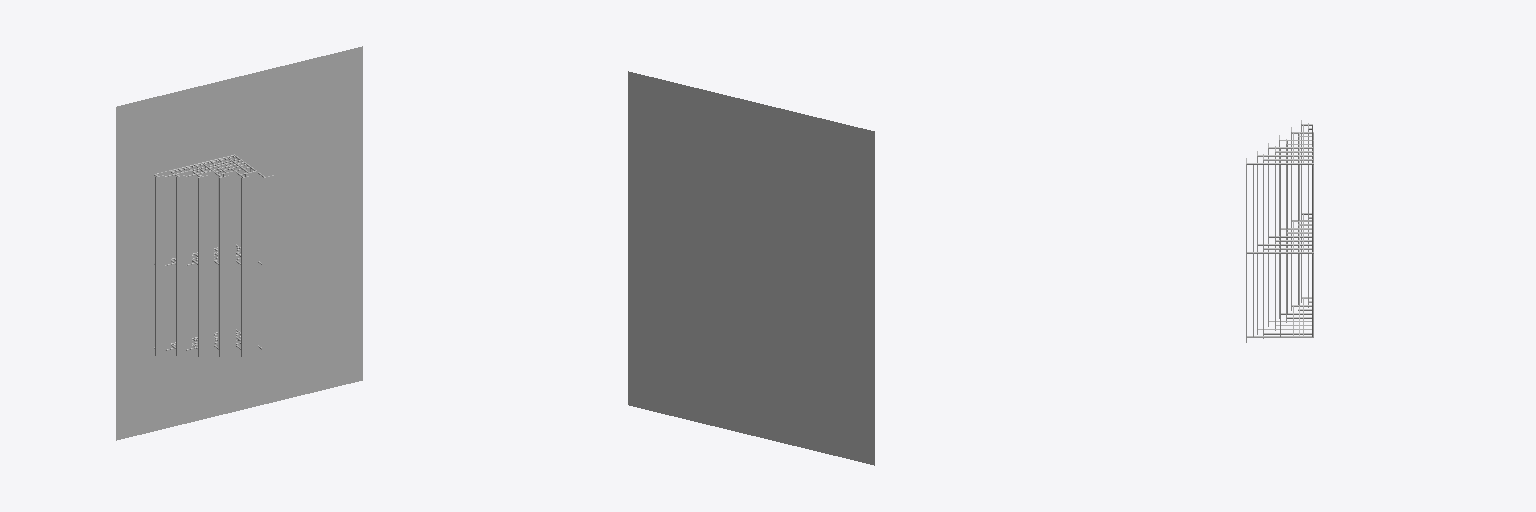
The model's file is GrandStands.obj.
3 views of the same model, side by side, from view 1: azimuth 30°, elevation 25°; view 2: azimuth 150°, elevation 25°; view 3: azimuth 270°, elevation 25° (orthographic).
Parts seen in each view (by area): view 1: bleachers; view 2: bleachers; view 3: bleachers.
Boxes of the visible parts, box(x1,y1,x2,y2) form: bleachers: box(116, 46, 362, 440); bleachers: box(628, 71, 874, 465); bleachers: box(1246, 120, 1313, 342).
Bounding box in the file's own units: 0.0387 × 0.0499 × 0.0092.